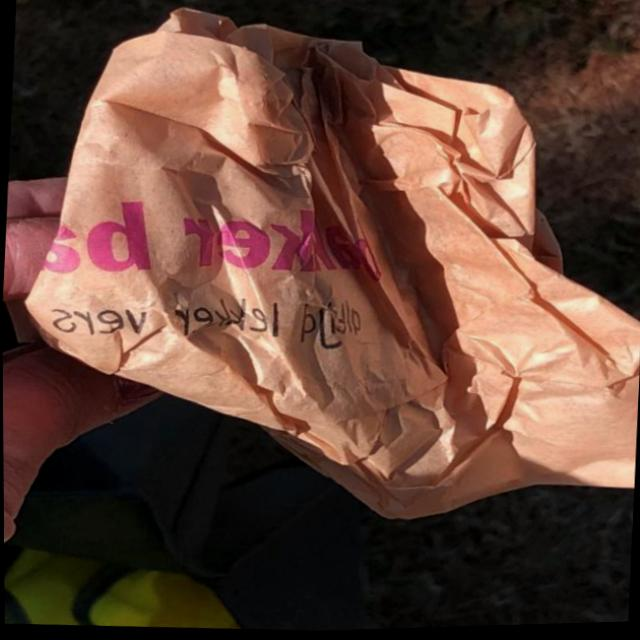Paper: (7, 0, 640, 544)
